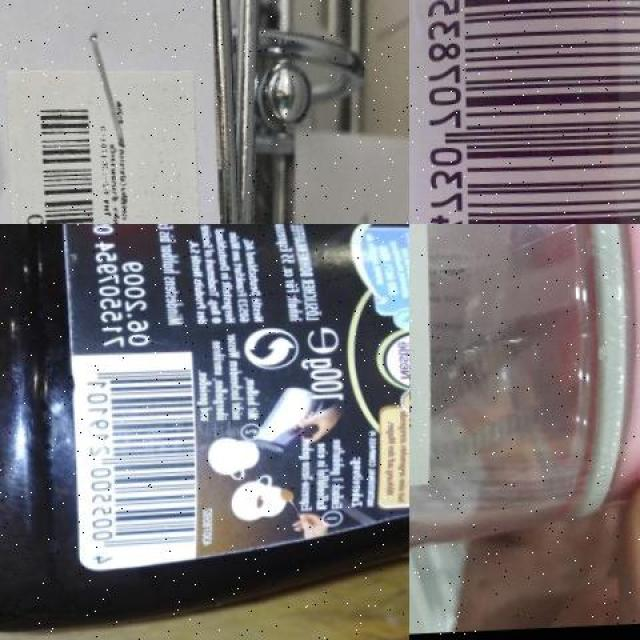Barcode: (409, 0, 640, 224), (70, 355, 197, 572), (21, 91, 103, 224)
